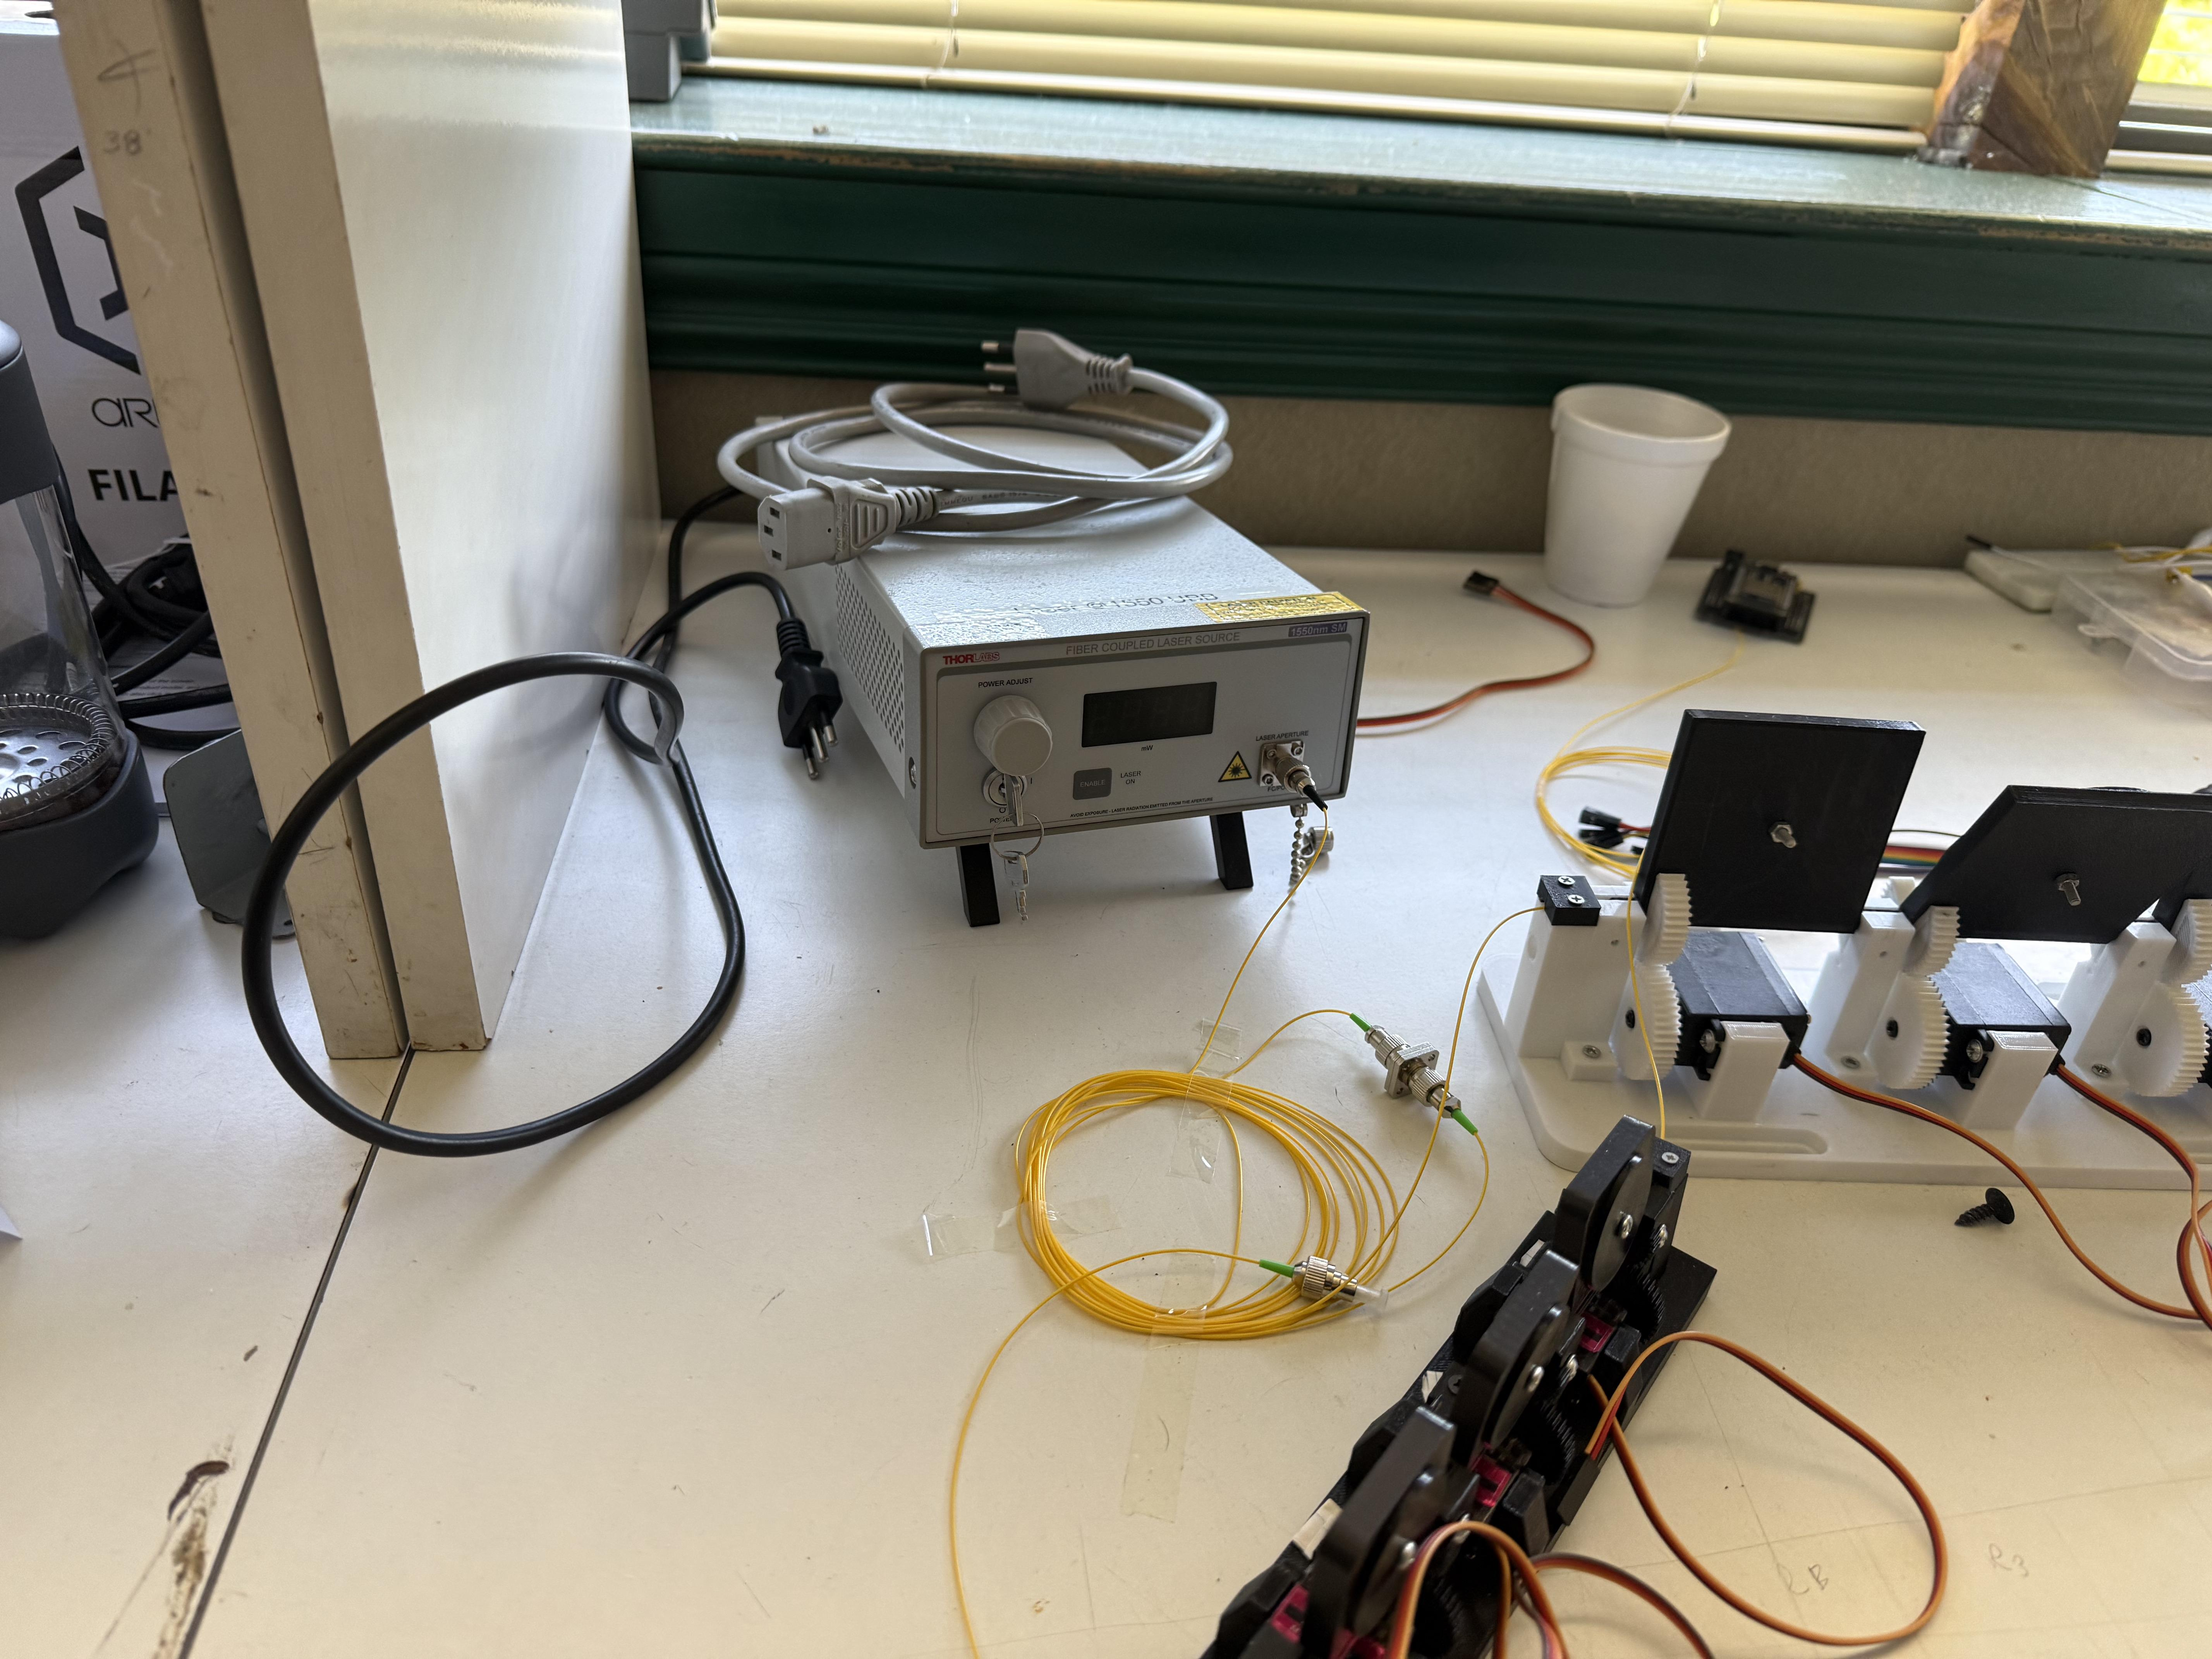laser: (728, 355, 1388, 974)
paddle_polarization_controller: (1453, 681, 2212, 1206), (1167, 1105, 1784, 1659)
